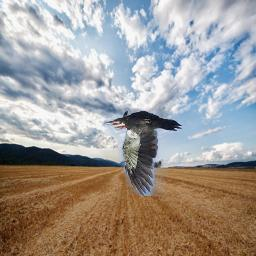Woodpecker: (104, 112, 183, 197)
